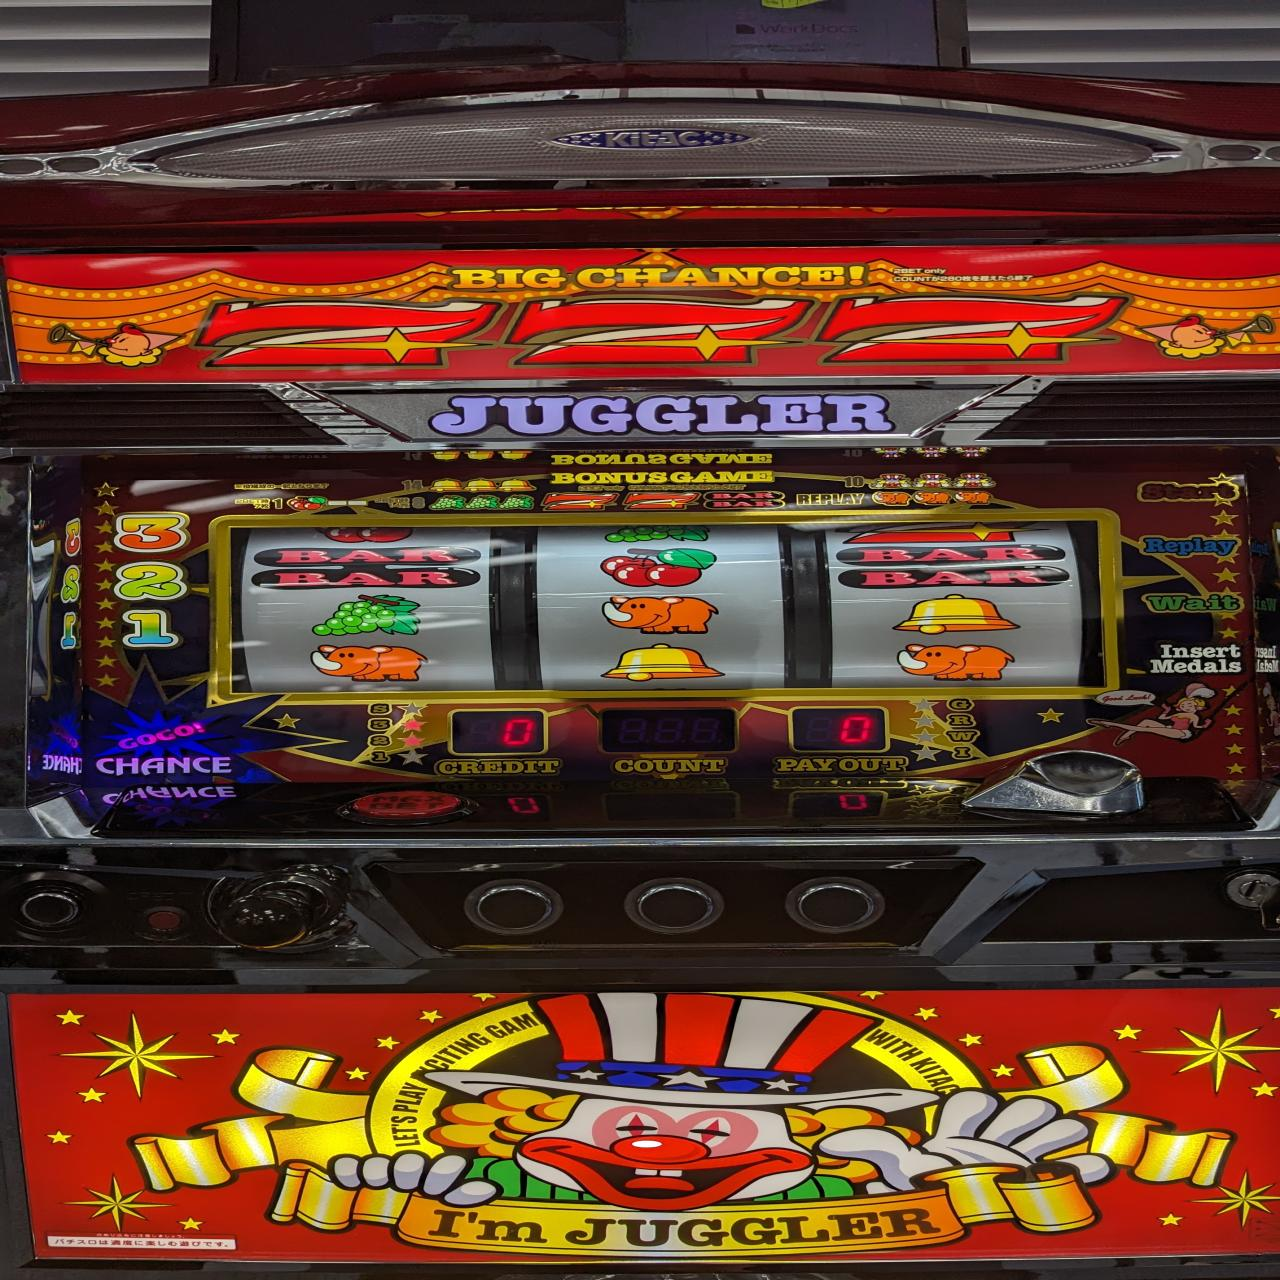Display: (217, 519, 1112, 690)
bar: (247, 544, 486, 591), (833, 543, 1073, 588)
bell: (890, 593, 1026, 638), (595, 642, 731, 683)
cherry: (594, 544, 720, 588)
grape: (305, 592, 425, 639)
rhino: (592, 592, 724, 638), (302, 642, 437, 686), (893, 642, 1021, 683)
